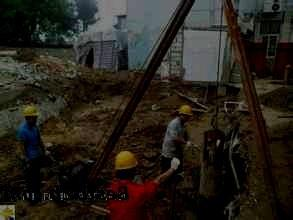helmet: (114, 150, 138, 181), (21, 105, 39, 128), (177, 104, 193, 123)
